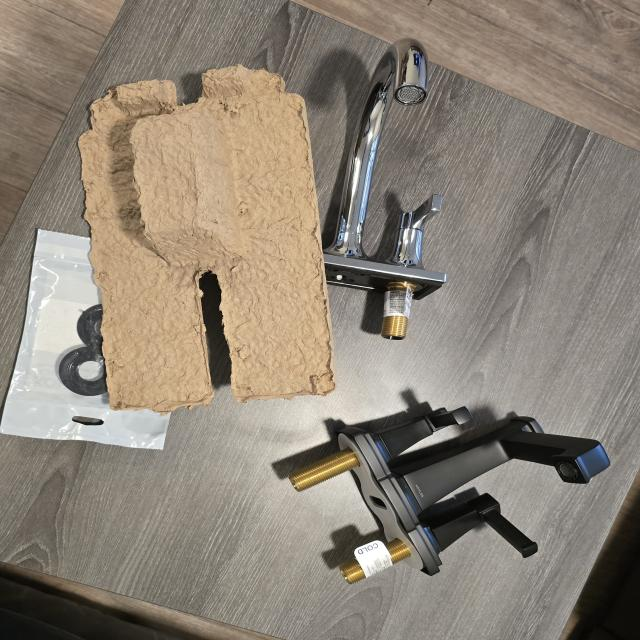10o: (324, 39, 447, 339)
13o: (0, 229, 170, 449)
9: (289, 407, 609, 583)
